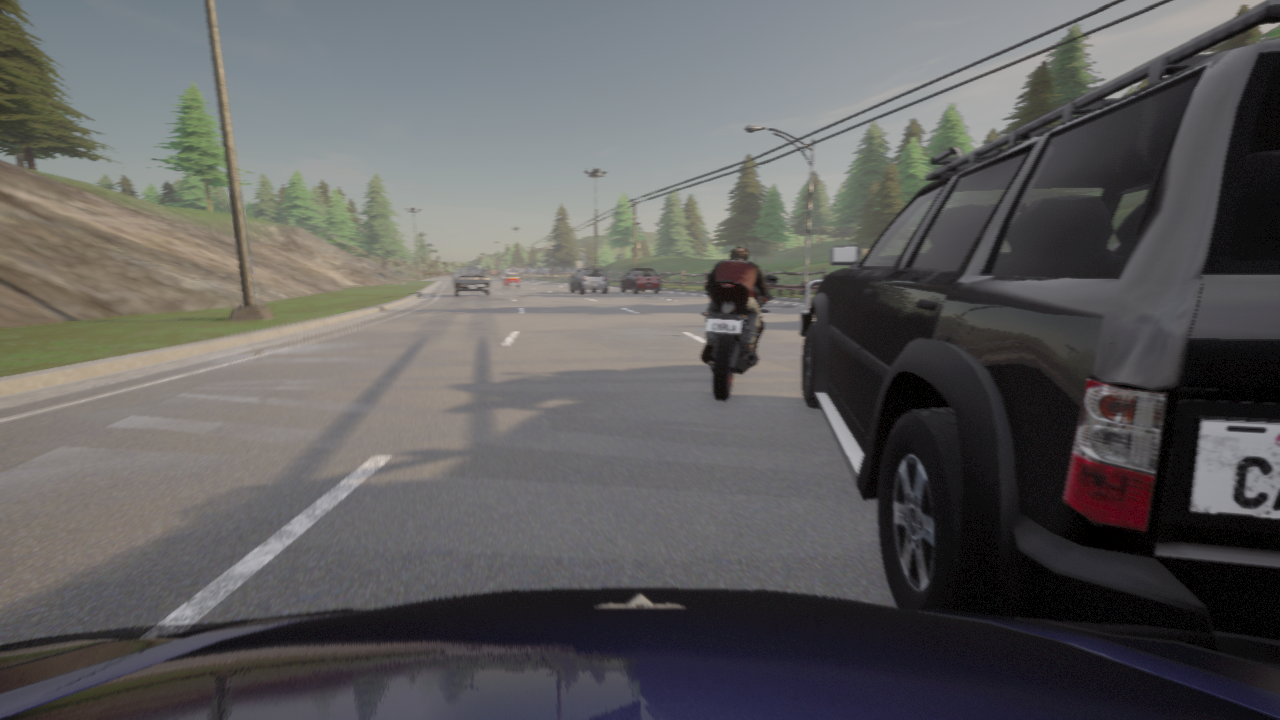cyclist: (800, 0, 1279, 644), (0, 588, 1279, 719), (698, 274, 777, 400), (450, 269, 490, 296), (570, 269, 607, 293), (621, 269, 659, 292), (502, 272, 519, 289)
